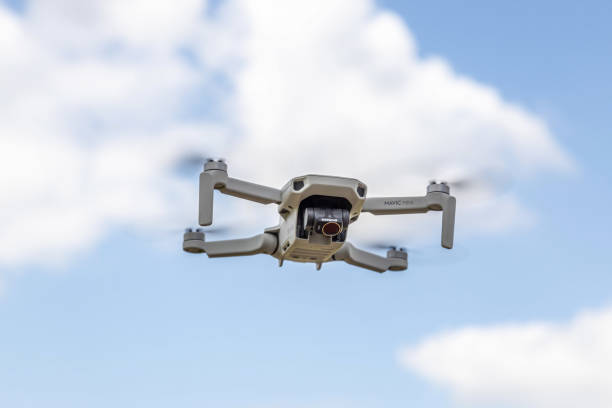Drone: (165, 144, 470, 277)
